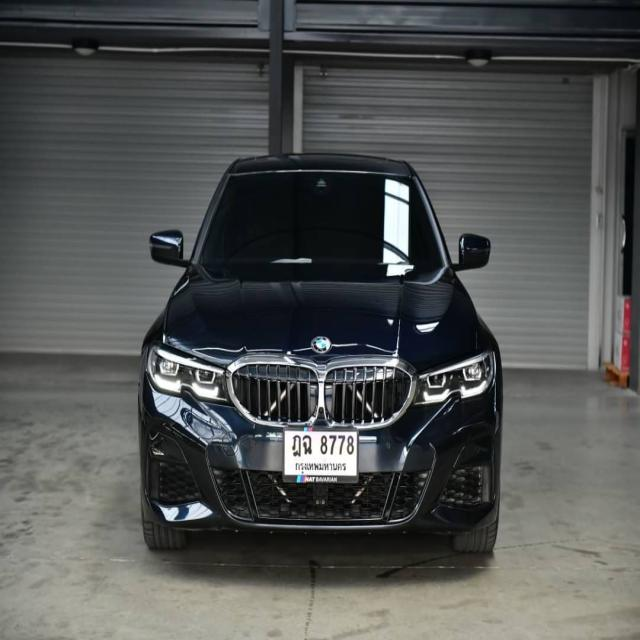license_plate: (284, 425, 359, 482)
